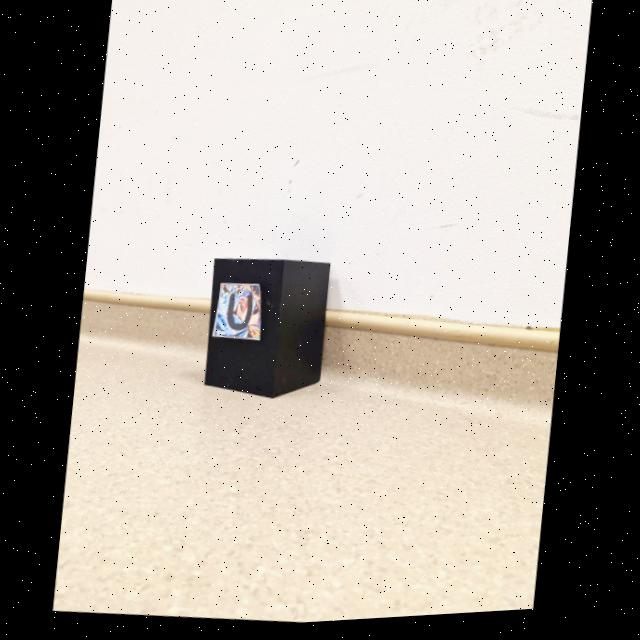U: (226, 295, 252, 333)
